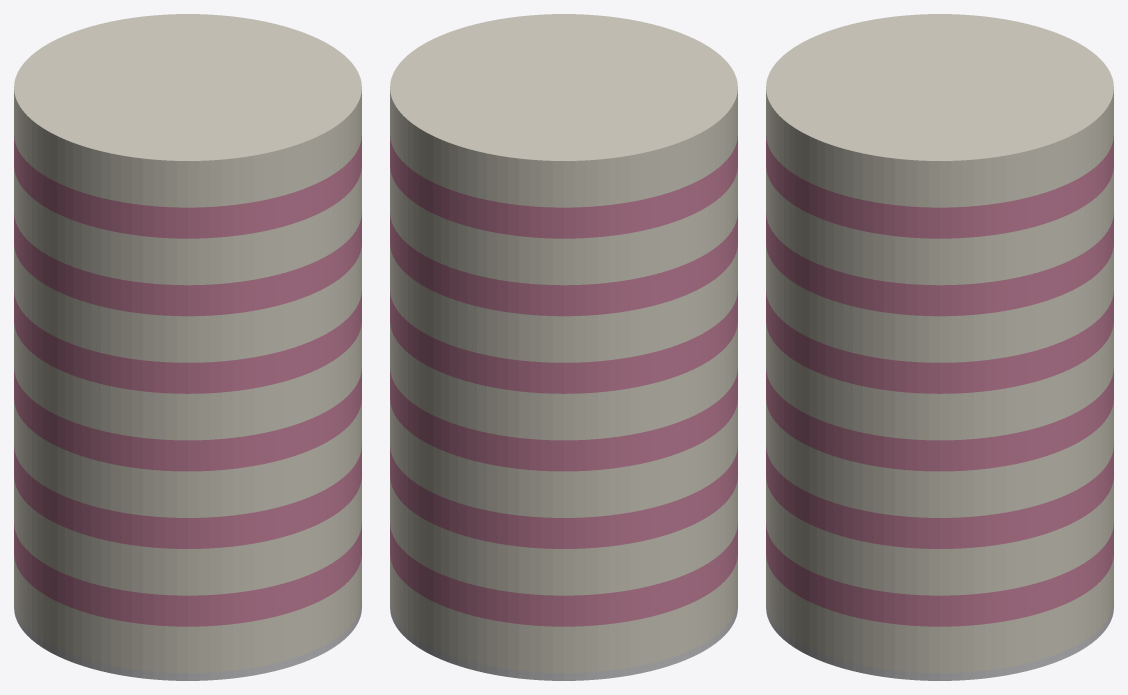
The model's file is cake_8in_layers7.glb.
The picture shows the model from 3 angles, left to right: view 1: azimuth 30°, elevation 25°; view 2: azimuth 150°, elevation 25°; view 3: azimuth 270°, elevation 25°; orthographic projection.
Parts seen in each view (by area): view 1: geometry_12, geometry_2, geometry_6, geometry_8, geometry_0, geometry_10, geometry_4, geometry_1, geometry_11, geometry_7, geometry_5, geometry_9 (+2 smaller); view 2: geometry_12, geometry_2, geometry_6, geometry_8, geometry_0, geometry_10, geometry_4, geometry_1, geometry_11, geometry_7, geometry_5, geometry_9 (+2 smaller); view 3: geometry_12, geometry_2, geometry_6, geometry_8, geometry_0, geometry_10, geometry_4, geometry_1, geometry_11, geometry_7, geometry_5, geometry_9 (+2 smaller).
Boxes of the visible parts, x1,y1,x2,y2 form: geometry_12: (14,14,361,207); geometry_2: (14,478,361,595); geometry_6: (14,322,361,440); geometry_8: (14,245,361,362); geometry_0: (14,555,361,673); geometry_10: (14,167,361,285); geometry_4: (14,400,361,517); geometry_1: (14,524,361,626); geometry_11: (14,136,361,238); geometry_7: (14,291,361,393); geometry_5: (14,369,361,471); geometry_9: (14,214,361,316); geometry_12: (390,14,737,207); geometry_2: (390,478,737,595); geometry_6: (390,322,737,440); geometry_8: (390,245,737,362); geometry_0: (390,555,737,673); geometry_10: (390,167,737,285); geometry_4: (390,400,737,517); geometry_1: (390,524,737,626); geometry_11: (390,136,737,238); geometry_7: (390,291,737,393); geometry_5: (390,369,737,471); geometry_9: (390,214,737,316); geometry_12: (766,14,1113,207); geometry_2: (766,478,1113,595); geometry_6: (766,322,1113,440); geometry_8: (766,245,1113,362); geometry_0: (766,555,1113,673); geometry_10: (766,167,1113,285); geometry_4: (766,400,1113,517); geometry_1: (766,524,1113,626); geometry_11: (766,136,1113,238); geometry_7: (766,291,1113,393); geometry_5: (766,369,1113,471); geometry_9: (766,214,1113,316).
Size of the model in its own units: 0.2032 by 0.335 by 0.2032.
